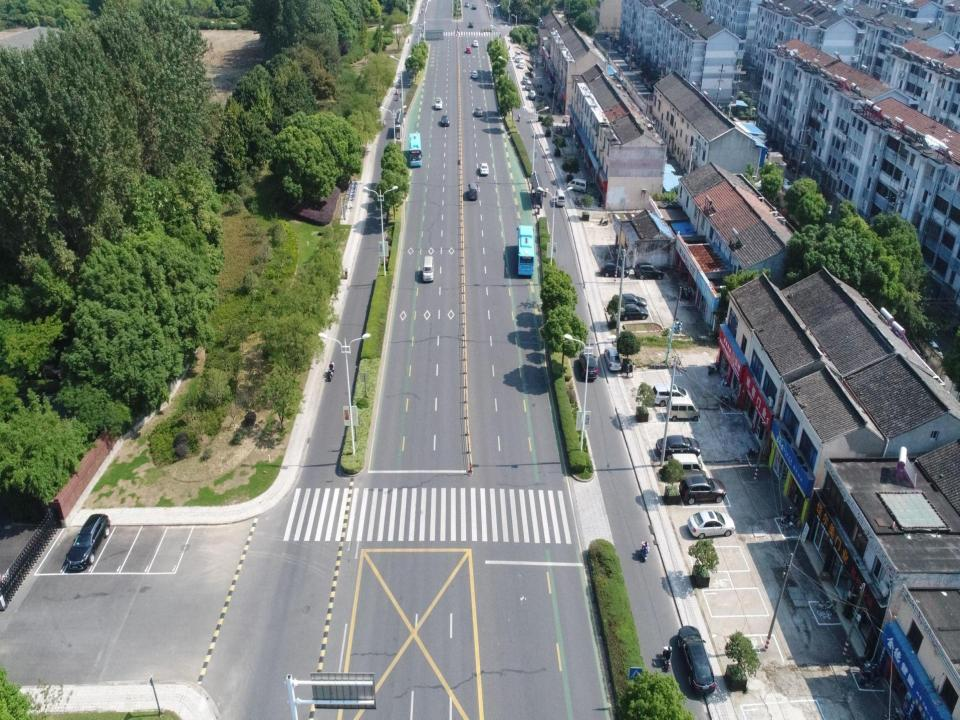bus: (514, 223, 536, 277), (408, 132, 421, 168)
car: (676, 624, 717, 694), (65, 513, 110, 574), (686, 509, 736, 538), (679, 474, 726, 502), (656, 434, 700, 461), (650, 383, 692, 406), (618, 303, 650, 322), (579, 349, 598, 380), (633, 262, 664, 281), (600, 261, 628, 279), (618, 293, 646, 310), (603, 346, 622, 371), (467, 181, 479, 199), (440, 113, 450, 127), (435, 96, 443, 110), (474, 106, 483, 116), (527, 90, 536, 100), (481, 164, 488, 176), (522, 77, 530, 85), (516, 60, 524, 68), (514, 57, 524, 63), (472, 70, 479, 78), (465, 45, 471, 53), (472, 40, 478, 48), (468, 21, 474, 28), (464, 2, 469, 8), (471, 4, 476, 9)
van: (670, 452, 708, 477), (666, 397, 700, 423), (566, 177, 588, 194), (421, 254, 434, 282), (555, 189, 565, 207), (524, 80, 532, 91), (514, 50, 521, 59)
